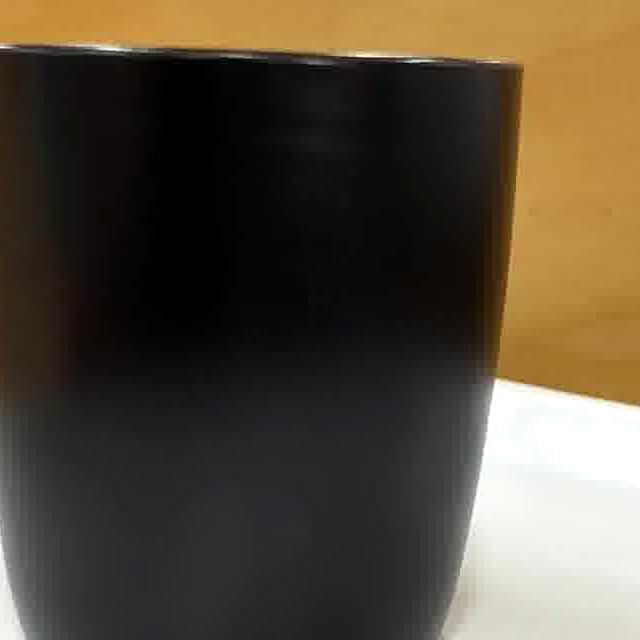cup: (0, 47, 517, 640)
